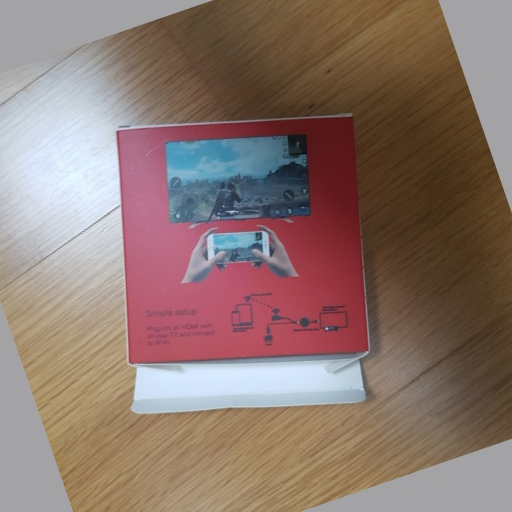Paper_0: (112, 111, 377, 421)
